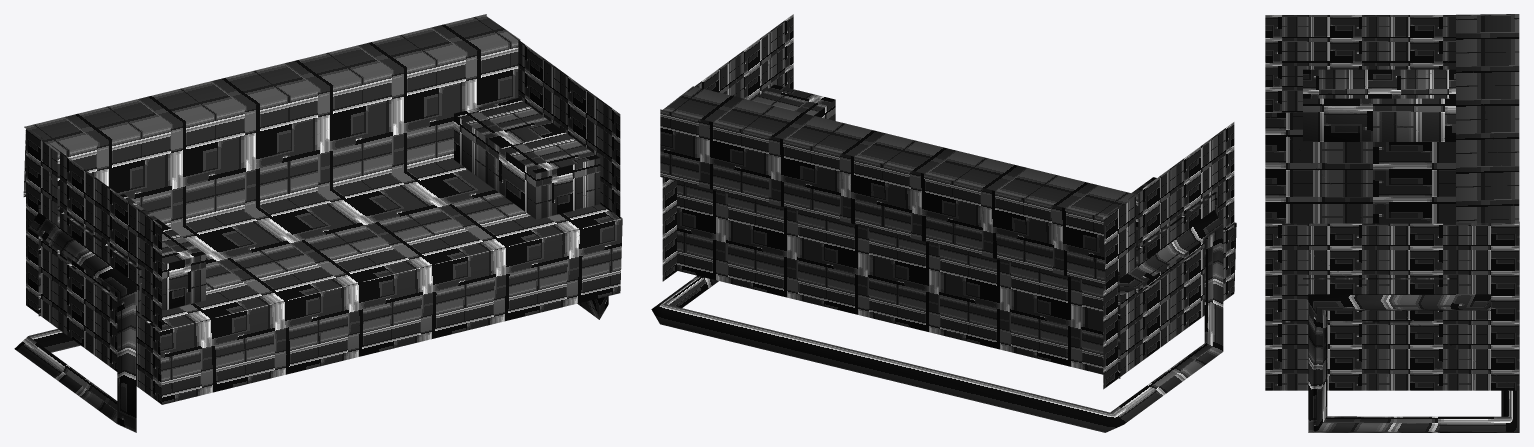
Rendered from 3104IMRL08_03.gltf.
The picture shows the model from 3 angles, left to right: view 1: azimuth 30°, elevation 25°; view 2: azimuth 150°, elevation 25°; view 3: azimuth 270°, elevation 25°; orthographic projection. The views are drawn at different scales.
Visible parts, largest first — view 1: 3104IMRL08_03; view 2: 3104IMRL08_03; view 3: 3104IMRL08_03.
Boxes of the visible parts, x1,y1,x2,y2 form: 3104IMRL08_03: (14,14,622,432); 3104IMRL08_03: (651,14,1236,432); 3104IMRL08_03: (1265,14,1519,432).
Bounding box in the file's own units: 1.87 × 0.8101 × 0.8975.
Materials: 1 (1 with a texture image).
